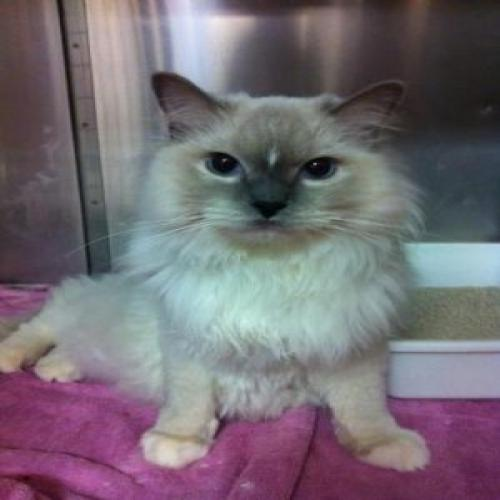ragdoll: (133, 60, 421, 262)
